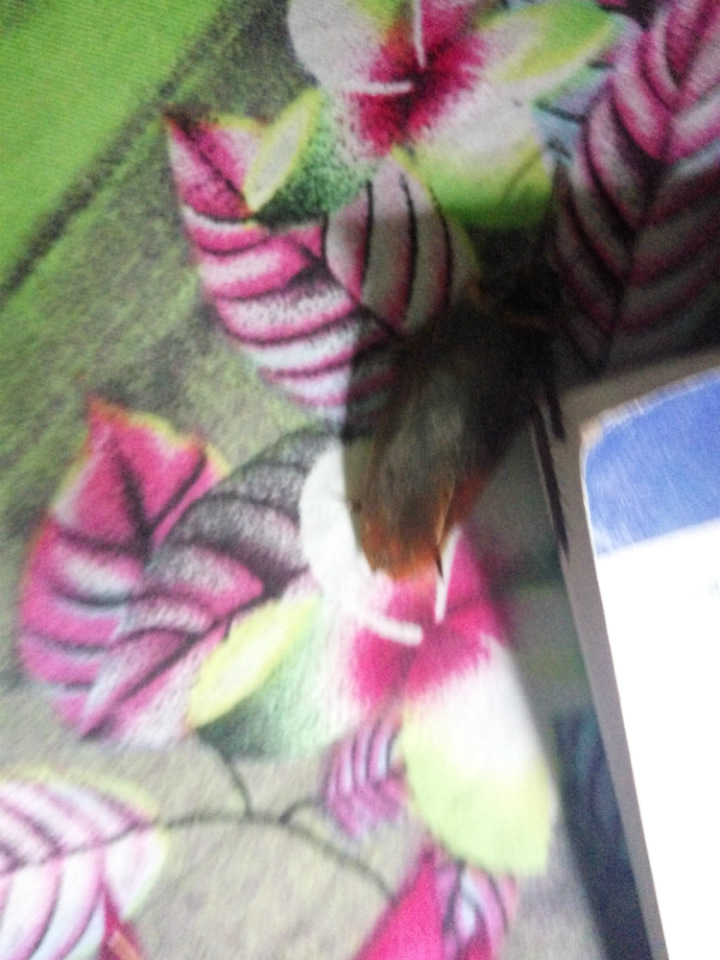cockroach: (175, 213, 640, 585)
